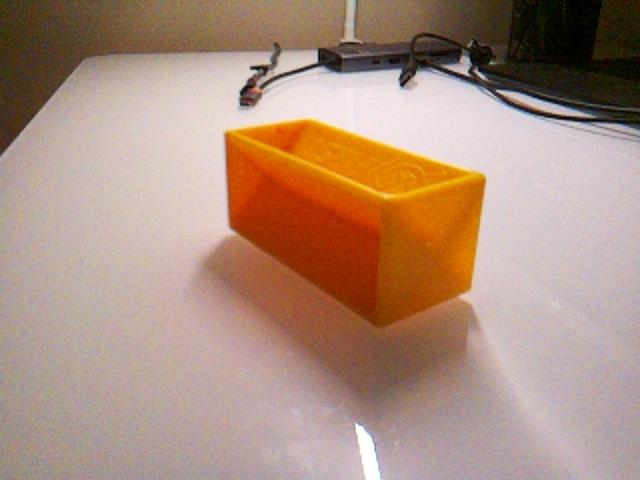yellow: (223, 117, 488, 329)
